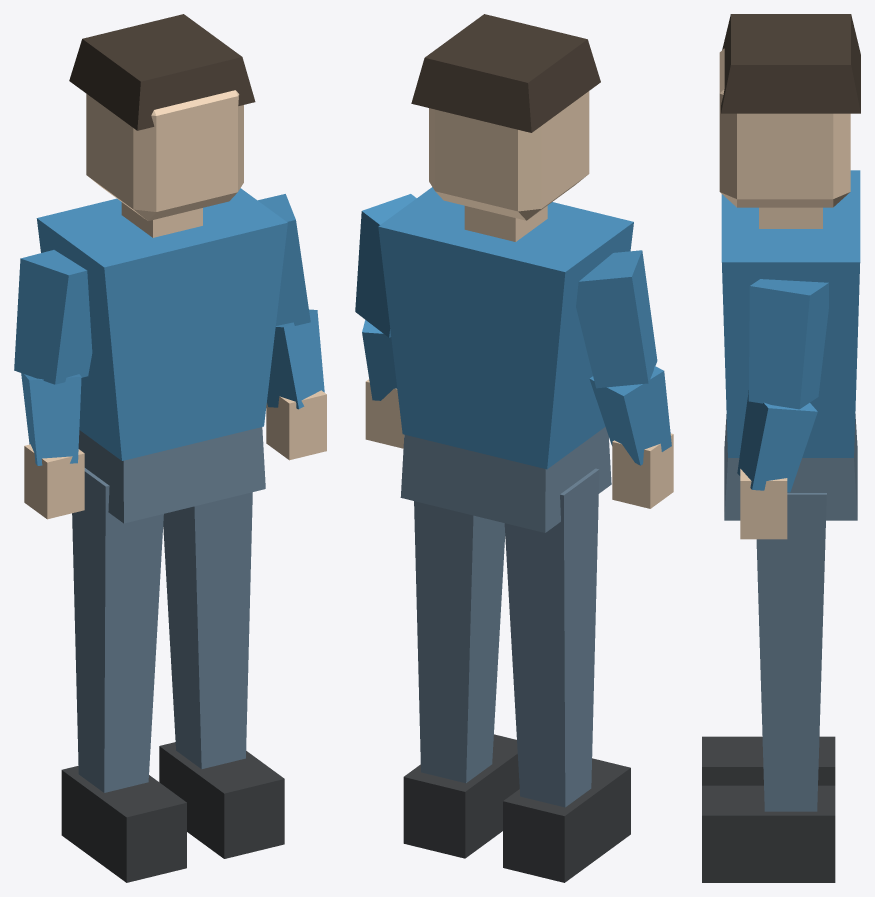
The model's file is Citizen_Male_01_Blue_Shirt.fbx.
3 renders of one model, left to right at view 1: azimuth 30°, elevation 25°; view 2: azimuth 150°, elevation 25°; view 3: azimuth 270°, elevation 25°, orthographic. The views are drawn at different scales.
Parts seen in each view (by area): view 1: Citizen_Male_01_Blue_Shirt_Mesh; view 2: Citizen_Male_01_Blue_Shirt_Mesh; view 3: Citizen_Male_01_Blue_Shirt_Mesh.
Part boxes in pixels (box(x1,y1,x2,y2)): Citizen_Male_01_Blue_Shirt_Mesh: box(14, 14, 326, 882); Citizen_Male_01_Blue_Shirt_Mesh: box(355, 14, 673, 882); Citizen_Male_01_Blue_Shirt_Mesh: box(702, 14, 860, 882).
Size of the model in its own units: 68.48 by 178 by 31.88.
